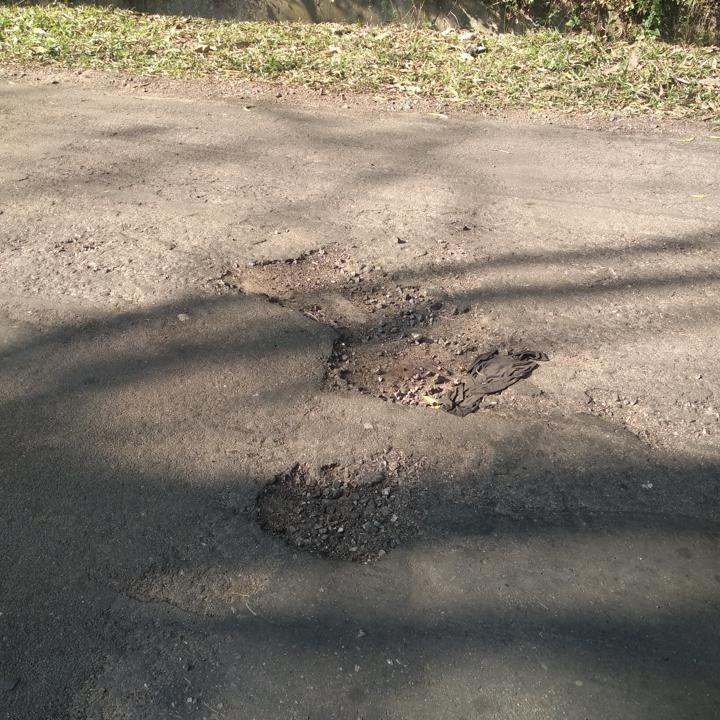pothole: (216, 236, 520, 410), (247, 454, 424, 565)
